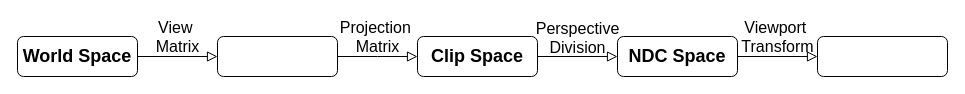
The diagram is 965 pixels wide and 94 high, and some of its shapes have lost their labels. The shapes that lost their labels are listed below. From the top down, each one's centre as x and y in pixels, then its label:
At point 277,56: "View Space".
At point 882,56: "Screen Space".
